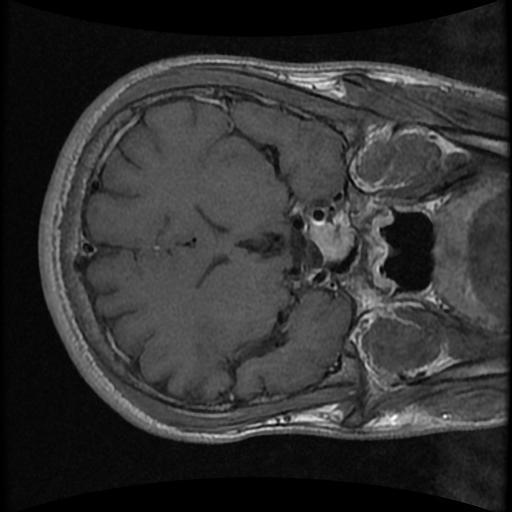pituitary tumour: (308, 215, 348, 260)
